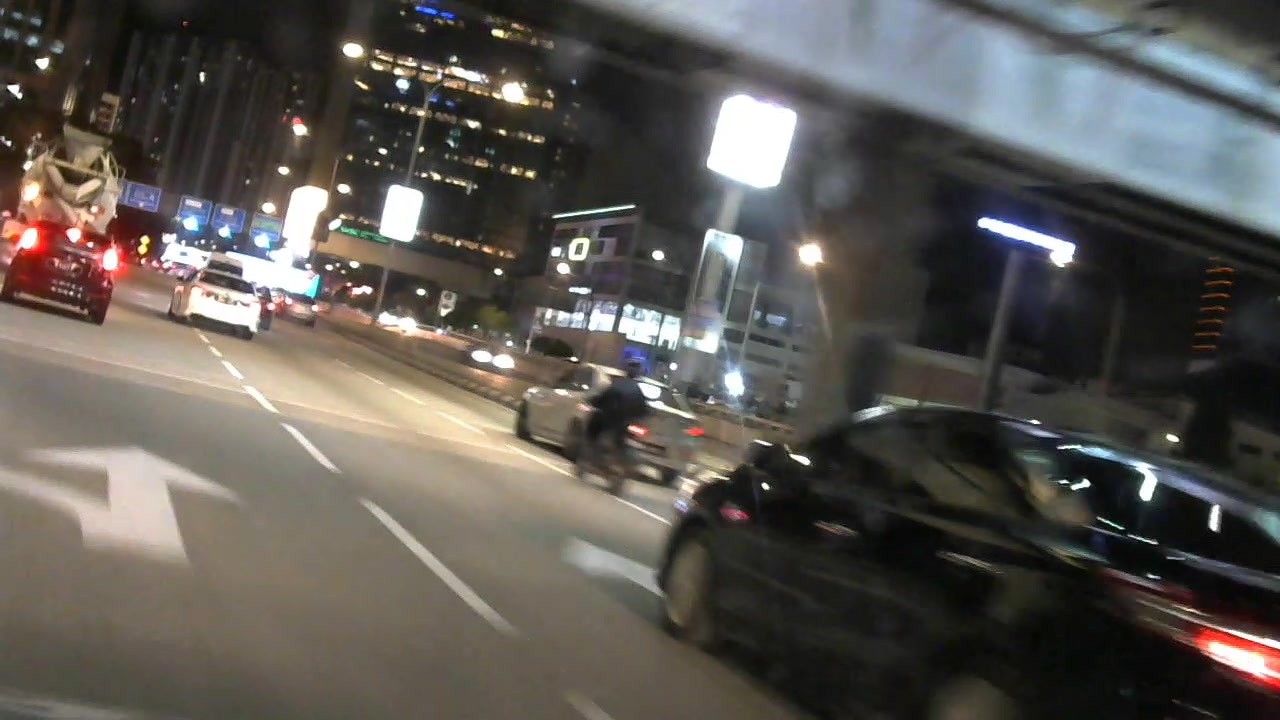Car: (654, 406, 1277, 710), (510, 342, 705, 473), (8, 218, 116, 327), (169, 259, 263, 348), (463, 335, 518, 377), (276, 290, 328, 327), (371, 305, 417, 332), (137, 248, 161, 278)
